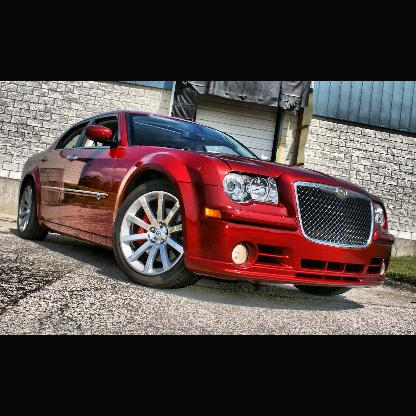Chrysler 300 SRT-8 2010: (18, 110, 394, 290)
